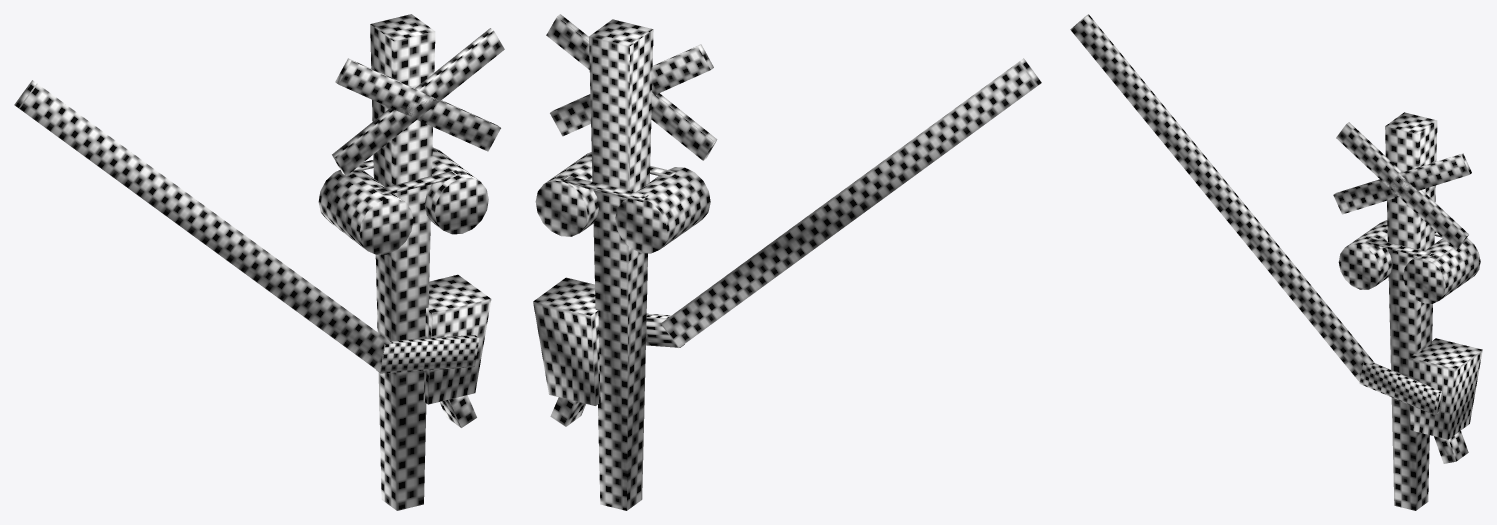
Rendered from Semaforo_Tren.obj.
3 renders of one model, left to right at view 1: azimuth 30°, elevation 25°; view 2: azimuth 150°, elevation 25°; view 3: azimuth 330°, elevation 25°, orthographic. The views are drawn at different scales.
Visible parts, largest first — view 1: Semaforo_Tren; view 2: Semaforo_Tren; view 3: Semaforo_Tren.
Part boxes in pixels (bbox=[...]): Semaforo_Tren: bbox=[14, 14, 504, 510]; Semaforo_Tren: bbox=[533, 14, 1041, 510]; Semaforo_Tren: bbox=[1070, 14, 1482, 510].
Bounding box in the file's own units: 47.86 × 49.08 × 7.66.
Materials: 1 (1 with a texture image).
